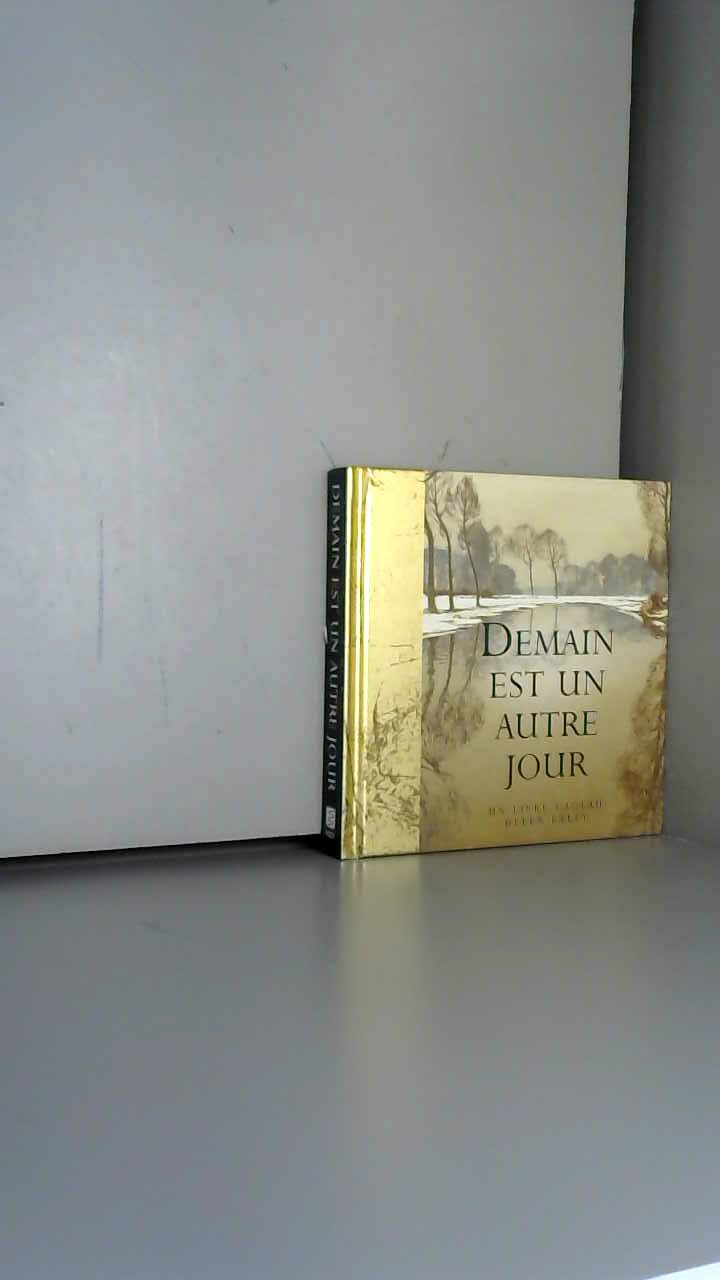book: (300, 440, 720, 884)
